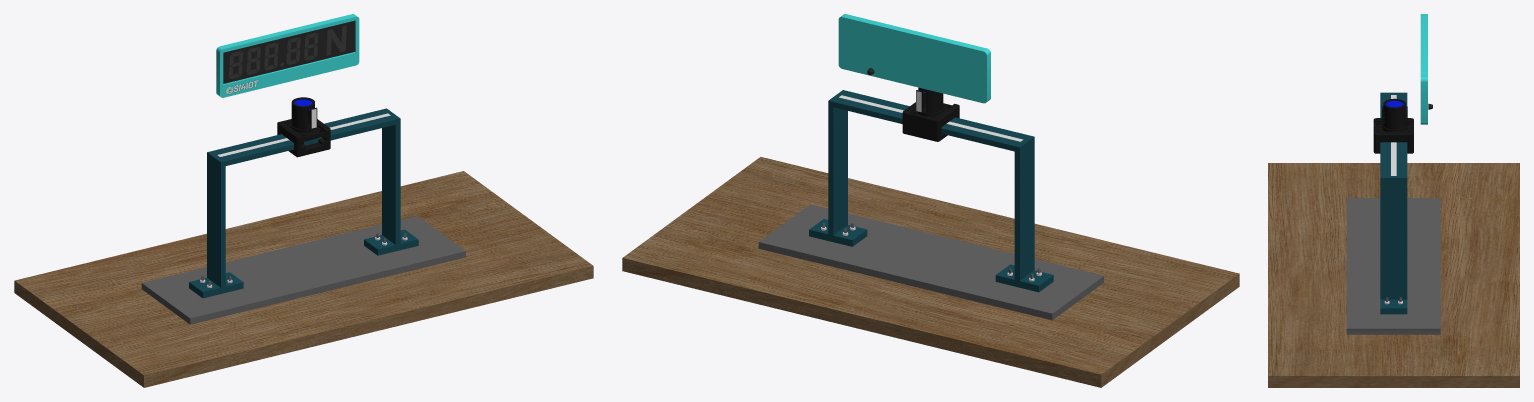
Rendered from Portico_biempotrado_YOLO.glb.
The picture shows the model from 3 angles, left to right: view 1: azimuth 30°, elevation 25°; view 2: azimuth 150°, elevation 25°; view 3: azimuth 270°, elevation 25°; orthographic projection. The views are drawn at different scales.
Visible parts, largest first — view 1: SOBRE-MESA, PORTICO_BI-EMPOTRADO_BASE, PORTICO_BI-EMPOTRADO, CAJA DISPLAY, BUTTON; view 2: SOBRE-MESA, PORTICO_BI-EMPOTRADO_BASE, PORTICO_BI-EMPOTRADO, CAJA DISPLAY, BUTTON; view 3: SOBRE-MESA, PORTICO_BI-EMPOTRADO_BASE, PORTICO_BI-EMPOTRADO, BUTTON, CAJA DISPLAY, scale.003.
Boxes of the visible parts, x1,y1,x2,y2 form: SOBRE-MESA: (14, 171, 593, 387); PORTICO_BI-EMPOTRADO_BASE: (141, 215, 465, 324); PORTICO_BI-EMPOTRADO: (189, 108, 418, 298); CAJA DISPLAY: (216, 14, 359, 97); BUTTON: (277, 97, 330, 157); SOBRE-MESA: (622, 157, 1239, 387); PORTICO_BI-EMPOTRADO_BASE: (758, 204, 1103, 320); PORTICO_BI-EMPOTRADO: (809, 90, 1053, 292); CAJA DISPLAY: (838, 14, 990, 103); BUTTON: (902, 87, 959, 141); SOBRE-MESA: (1268, 163, 1519, 387); PORTICO_BI-EMPOTRADO_BASE: (1346, 198, 1440, 334); PORTICO_BI-EMPOTRADO: (1380, 92, 1407, 314); BUTTON: (1373, 98, 1413, 153); CAJA DISPLAY: (1420, 14, 1427, 124); scale.003: (1391, 95, 1396, 175).
Bounding box in the file's own units: 0.75 × 0.387 × 0.375.
Materials: 50 (4 with a texture image).
